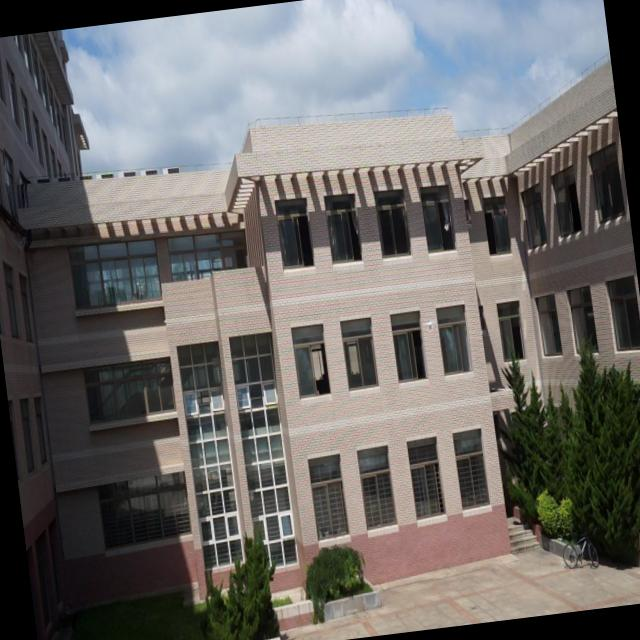drone: (422, 316, 436, 334)
